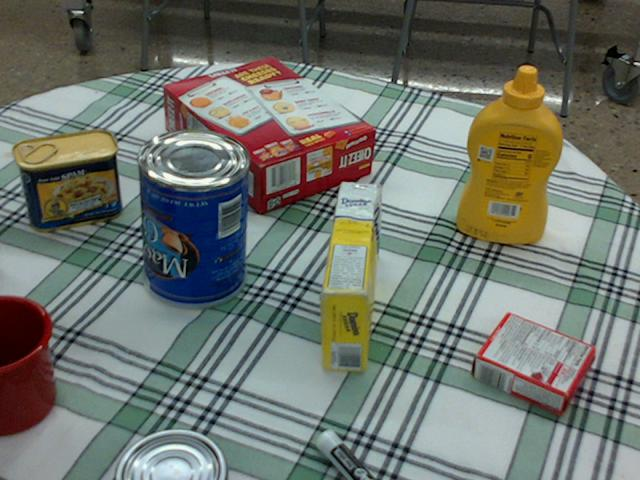cracker_box: (162, 58, 374, 209)
gelatin_box: (471, 313, 593, 415)
large_marker: (316, 430, 375, 479)
master_chef_can: (134, 128, 247, 308)
mug: (0, 292, 53, 432)
mustard_bottle: (455, 65, 561, 242)
potted_meat_can: (14, 129, 121, 232)
sugar_box: (319, 182, 378, 371)
tuna_fish_can: (111, 430, 225, 479)
